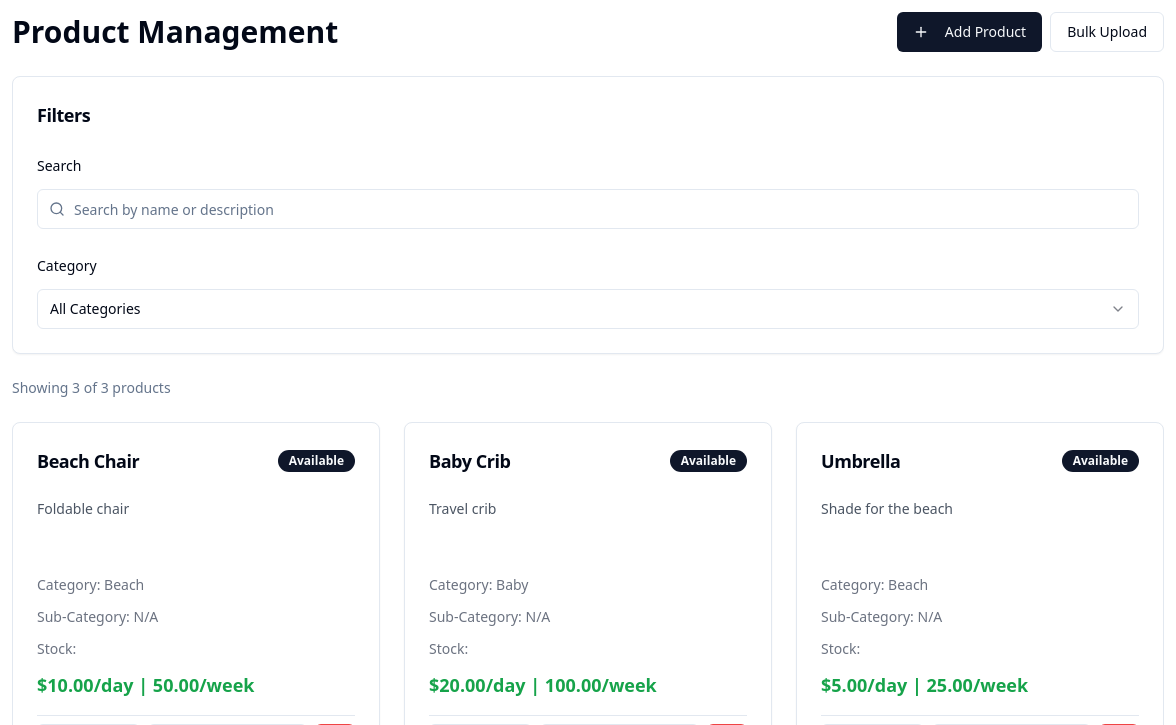
it: ProductManagement search › narrows the list to products whose name matches, case-insensitively
Expected: the heading "Beach Chair" is shown, [37,447,139,475]
Expected: the text "Showing 3 of 3 products" is shown, [12,378,171,397]
In the search field labelled "Search": (588, 209) [37,189,1139,229], type "baby"
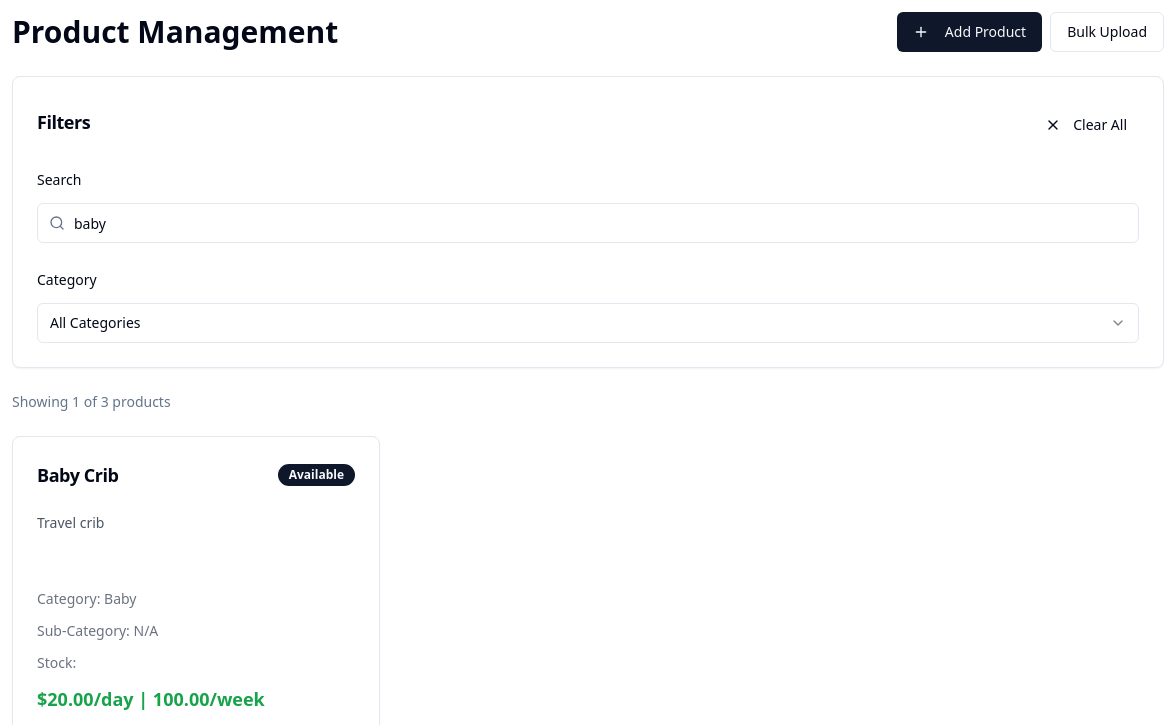
Expected: the heading "Baby Crib" is shown, [37,461,118,489]
Now the heading "Beach Chair" is gone
Now the text "Showing 1 of 3 products" is shown, box [12,392,171,411]
